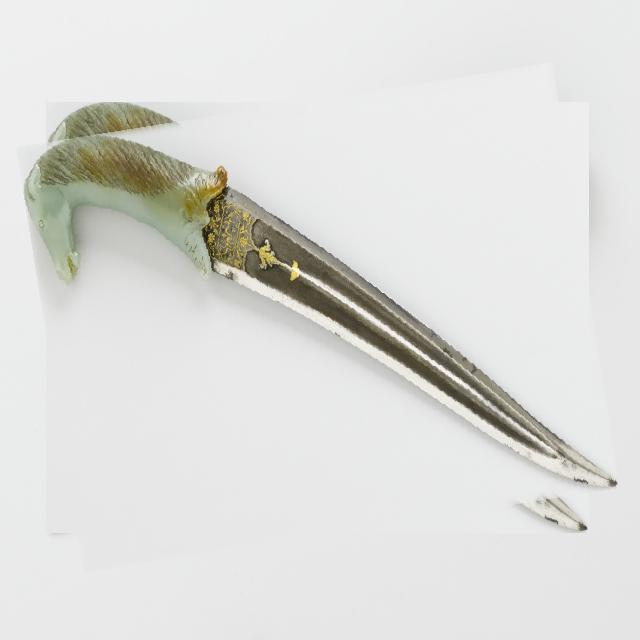knife: (31, 82, 604, 553)
